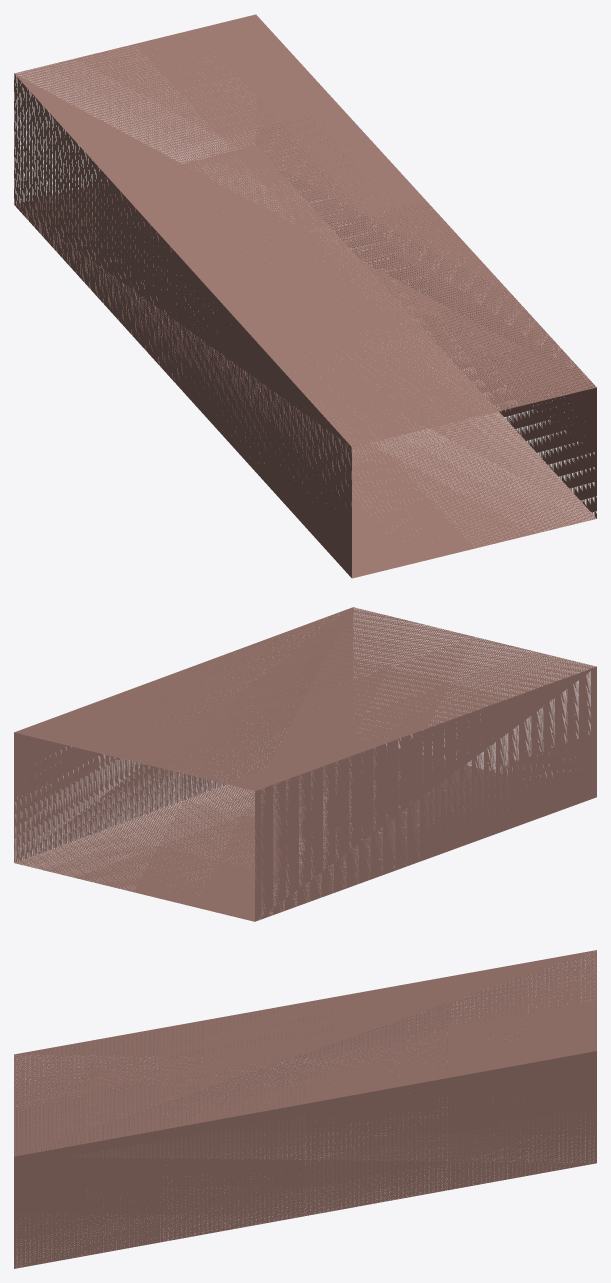
File: SW_ENV_RailTunnel_TrackRise_Double_20m_Collision.fbx
The picture shows the model from 3 angles, top to bottom: view 1: azimuth 30°, elevation 25°; view 2: azimuth 150°, elevation 25°; view 3: azimuth 270°, elevation 25°; orthographic projection. The views are drawn at different scales.
Parts seen in each view (by area): view 1: SW_ENV_RailTunnel_TrackRise_Double_20m_Collision; view 2: SW_ENV_RailTunnel_TrackRise_Double_20m_Collision; view 3: SW_ENV_RailTunnel_TrackRise_Double_20m_Collision.
Part boxes in pixels (x1,y1,x2,y2): SW_ENV_RailTunnel_TrackRise_Double_20m_Collision: (14, 14, 596, 578); SW_ENV_RailTunnel_TrackRise_Double_20m_Collision: (14, 607, 596, 921); SW_ENV_RailTunnel_TrackRise_Double_20m_Collision: (14, 950, 596, 1268).
Bounding box in the file's own units: 830 × 825 × 2000.
